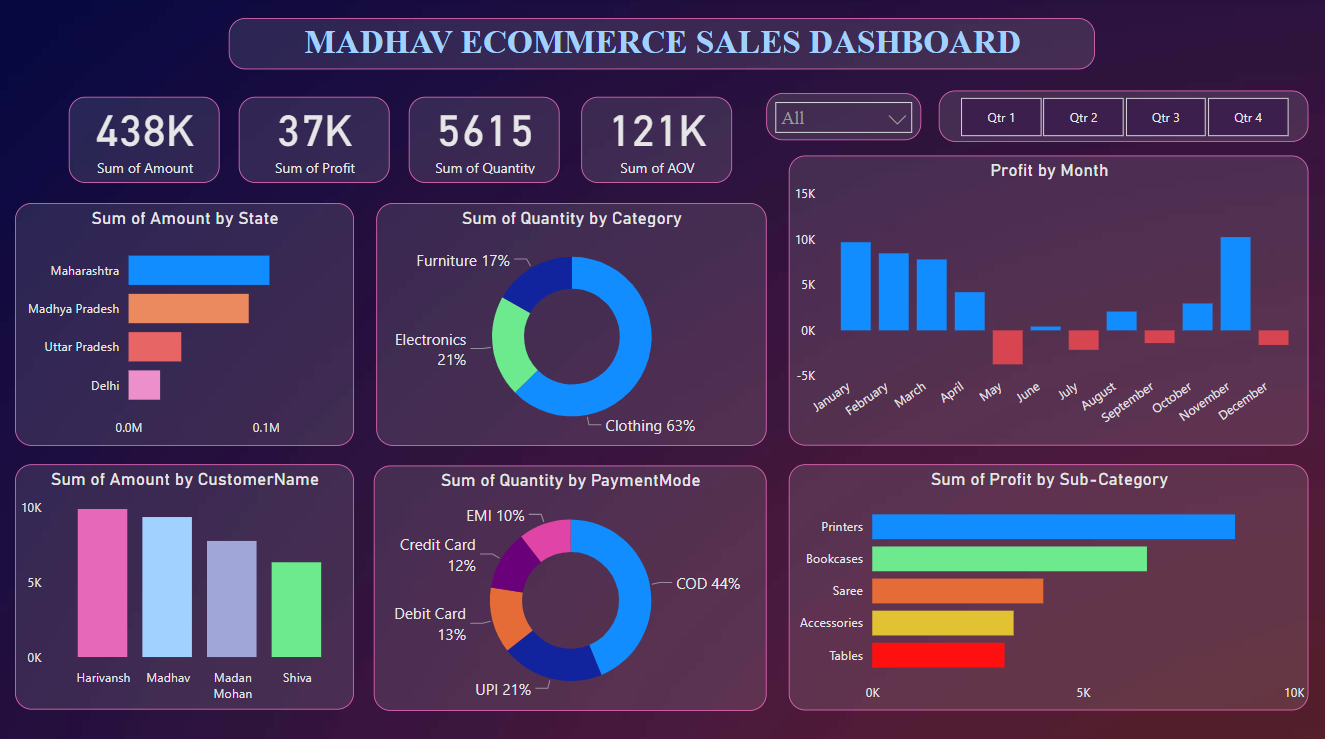

What the dashboard file says about the page in this screenshot:
{"tool":"powerbi","page":{"name":"Page 1","canvas":[1280,720],"ordinal":0},"visuals":[{"type":"textbox","box":[220.8,19.3,836.1,49.5],"z":0},{"type":"columnChart","title":"Profit by Month","fields":{"Category":["Orders.Order Date.Variation.Date Hierarchy.Month"],"Y":["Sum(Details.Profit)"]},"box":[761.3,152,501.9,279.9],"z":1000},{"type":"barChart","fields":{"Category":["Details.Sub-Category"],"Y":["Sum(Details.Profit)"]},"box":[761.3,450,501.9,237.7],"z":2000},{"type":"donutChart","fields":{"Category":["Details.Category"],"Y":["Sum(Details.Quantity)"]},"box":[363.1,197.9,376.4,234],"z":3000},{"type":"donutChart","fields":{"Category":["Details.PaymentMode"],"Y":["Sum(Details.Quantity)"]},"box":[360.7,451.2,378.8,236.5],"z":4000},{"type":"card","fields":{"Values":["Sum(Details.AOV)"]},"box":[560.5,95.6,146,83.2],"z":5000},{"type":"card","fields":{"Values":["Sum(Details.Quantity)"]},"box":[394,95.6,146,83.2],"z":6000},{"type":"card","fields":{"Values":["Sum(Details.Profit)"]},"box":[229.9,95.6,146,83.2],"z":7000},{"type":"card","fields":{"Values":["Sum(Details.Amount)"]},"box":[65.9,95.6,146,83.2],"z":8000},{"type":"barChart","fields":{"Y":["Sum(Details.Amount)"],"Category":["Orders.State"]},"box":[14.5,197.9,326.9,234],"z":9000},{"type":"columnChart","fields":{"Category":["Orders.CustomerName"],"Y":["Sum(Details.Amount)"]},"box":[14.5,450,326.9,236.5],"z":10000},{"type":"slicer","fields":{"Values":["Orders.Order Date.Variation.Date Hierarchy.Quarter"]},"box":[906,89.3,357.1,49.5],"z":11000},{"type":"slicer","fields":{"Values":["Orders.State"]},"box":[739.5,91.7,149.6,45.8],"z":12000}]}

Visuals, with their boxes in screenshot pixels (x1, y1, x2, y2), scaled from the page's 1280x720 canvas onto the 1325x739 screenshot:
textbox: [229, 20, 1094, 71]
"Profit by Month" columnChart: [788, 156, 1308, 443]
barChart - Details.Sub-Category x Sum(Details.Profit): [788, 462, 1308, 706]
donutChart - Details.Category x Sum(Details.Quantity): [376, 203, 765, 443]
donutChart - Details.PaymentMode x Sum(Details.Quantity): [373, 463, 765, 706]
card - Sum(Details.AOV): [580, 98, 731, 184]
card - Sum(Details.Quantity): [408, 98, 559, 184]
card - Sum(Details.Profit): [238, 98, 389, 184]
card - Sum(Details.Amount): [68, 98, 219, 184]
barChart - Sum(Details.Amount) x Orders.State: [15, 203, 353, 443]
columnChart - Orders.CustomerName x Sum(Details.Amount): [15, 462, 353, 705]
slicer - Orders.Order Date.Variation.Date Hierarchy.Quarter: [938, 92, 1308, 142]
slicer - Orders.State: [765, 94, 920, 141]
